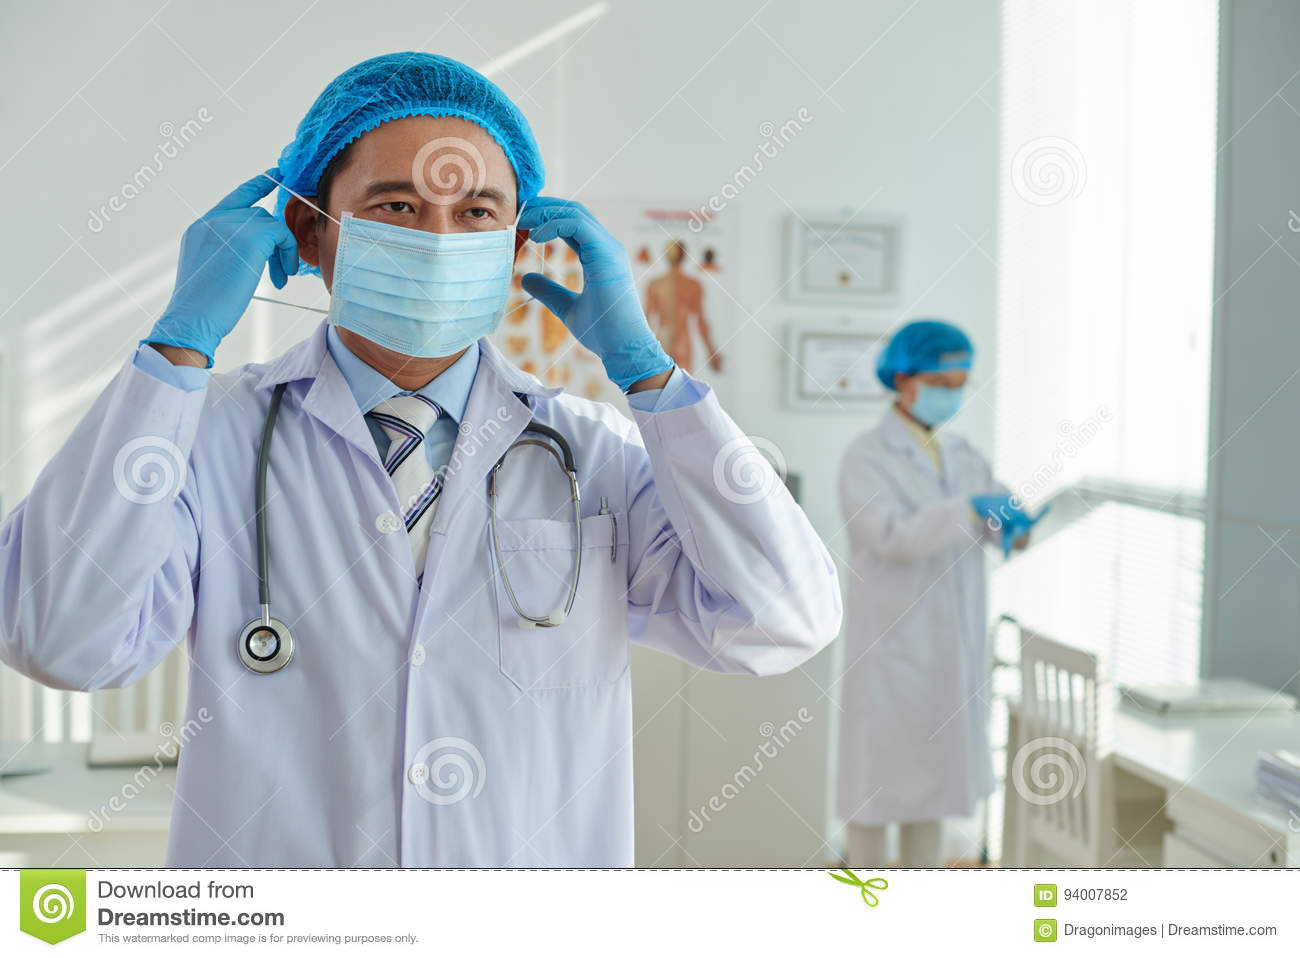mask: (331, 211, 535, 372)
